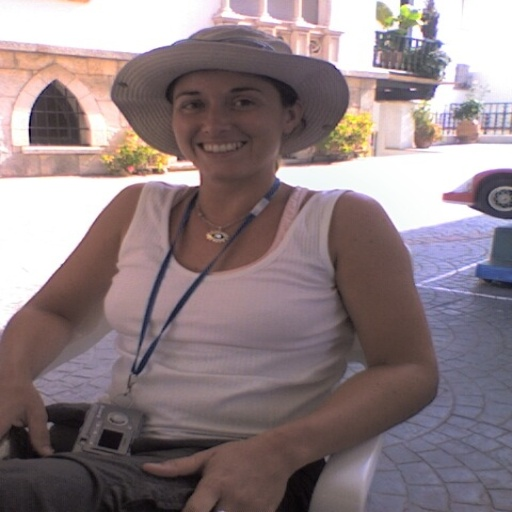hand: (153, 419, 322, 505), (0, 377, 59, 457)
